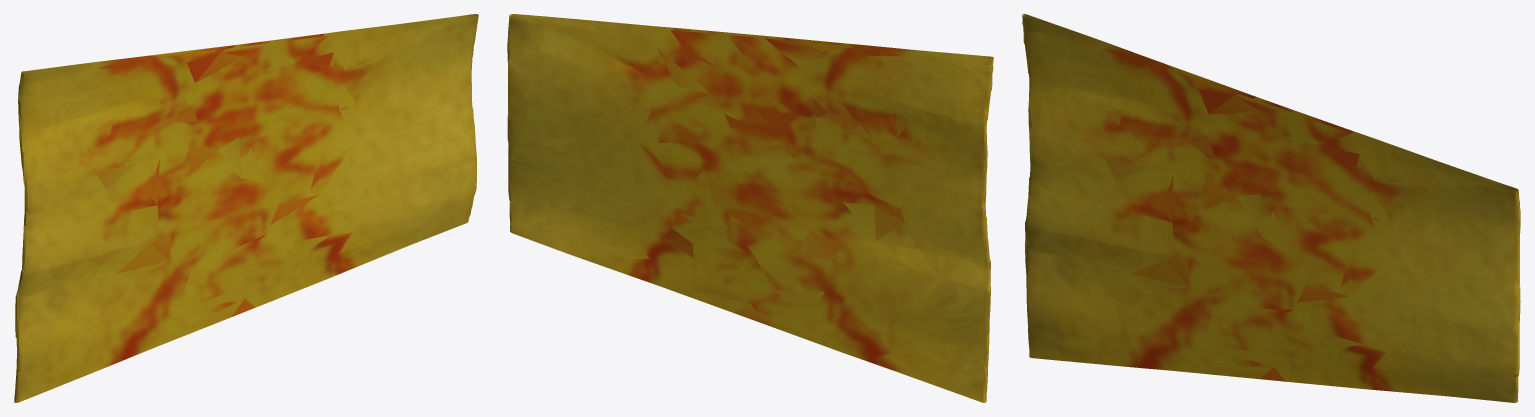
File: fragment_3.fbx
The picture shows the model from 3 angles, left to right: view 1: azimuth 30°, elevation 25°; view 2: azimuth 150°, elevation 25°; view 3: azimuth 330°, elevation 25°; orthographic projection. The views are drawn at different scales.
Parts seen in each view (by area): view 1: fragment_3; view 2: fragment_3; view 3: fragment_3.
Part boxes in pixels (x1=…): fragment_3: x1=14, y1=14, x2=478, y2=402; fragment_3: x1=507, y1=14, x2=993, y2=402; fragment_3: x1=1022, y1=14, x2=1520, y2=402.
Size of the model in its own units: 7.18 by 4.91 by 0.489.
1 material, 1 textured.
